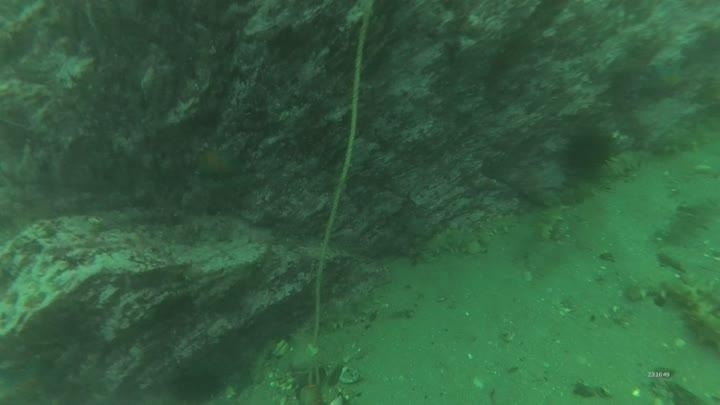echinus: (559, 126, 617, 180), (168, 360, 229, 403)
holothurian: (604, 267, 702, 309), (646, 109, 720, 159), (412, 223, 490, 262), (318, 288, 382, 333), (677, 297, 720, 360), (597, 147, 652, 184), (533, 200, 570, 244), (467, 211, 525, 239)
starfish: (1, 356, 71, 405), (192, 143, 246, 182), (644, 57, 691, 97)
